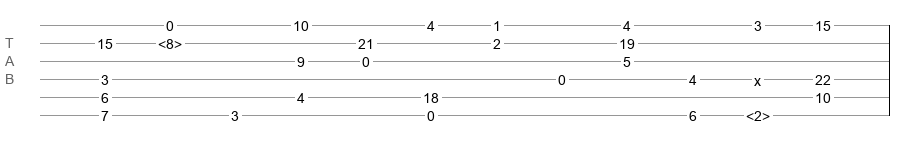0: (166, 18, 174, 28), (362, 54, 370, 64), (427, 108, 435, 118), (558, 72, 566, 82)
1: (493, 18, 501, 28)
10: (293, 18, 309, 28), (815, 90, 831, 100)
15: (97, 36, 113, 46), (815, 18, 831, 28)
18: (423, 90, 439, 100)
19: (619, 36, 635, 46)
2: (493, 36, 501, 46)
21: (358, 36, 374, 46)
22: (815, 72, 831, 82)
3: (101, 72, 109, 82), (231, 108, 239, 118), (754, 18, 762, 28)
4: (297, 90, 305, 100), (427, 18, 435, 28), (623, 18, 631, 28), (689, 72, 697, 82)
5: (623, 54, 631, 64)
6: (101, 90, 109, 100), (689, 108, 697, 118)
7: (101, 108, 109, 118)
9: (297, 54, 305, 64)
harmonic: (158, 36, 182, 46), (746, 108, 770, 118)
x: (754, 73, 761, 81)
